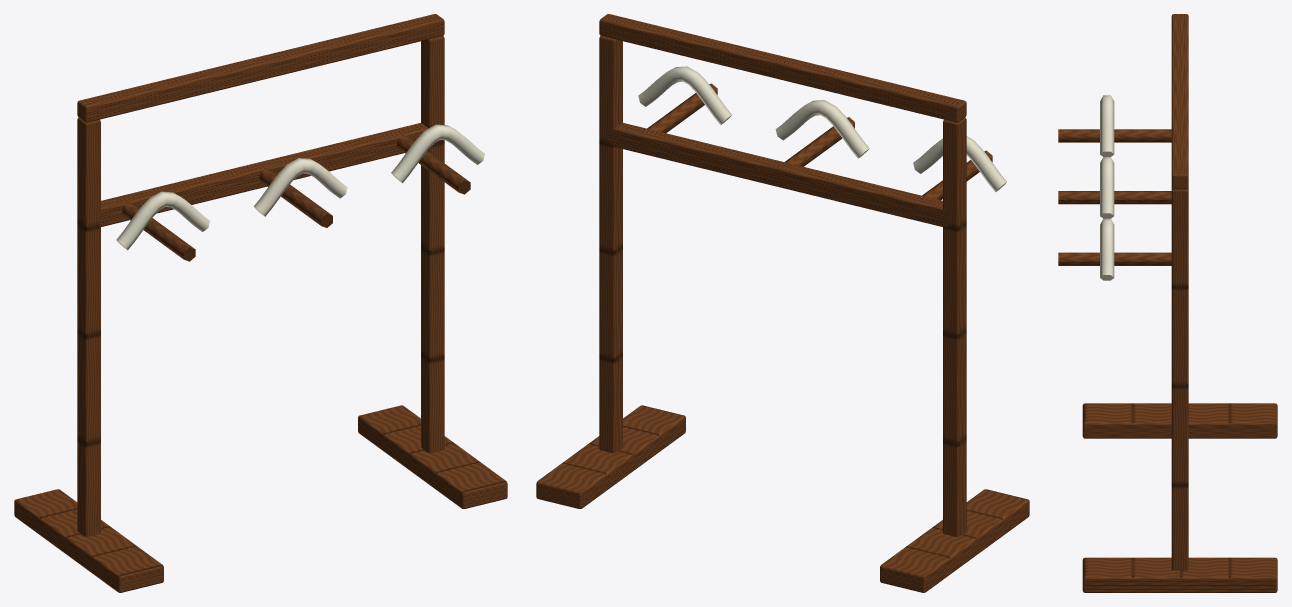
Rendered from creature-husbandry-and-transport-tack-drying-rack-cb3de75c__24032.glb.
3 renders of one model, left to right at view 1: azimuth 30°, elevation 25°; view 2: azimuth 150°, elevation 25°; view 3: azimuth 270°, elevation 25°, orthographic. The views are drawn at different scales.
Parts seen in each view (by area): view 1: tack-drying-rack; view 2: tack-drying-rack; view 3: tack-drying-rack.
Boxes of the visible parts, x1,y1,x2,y2 form: tack-drying-rack: [14, 14, 507, 592]; tack-drying-rack: [536, 14, 1029, 592]; tack-drying-rack: [1058, 14, 1277, 592].
Size of the model in its own units: 1.7 by 1.87 by 0.8999.
Materials: 2 (1 with a texture image).
